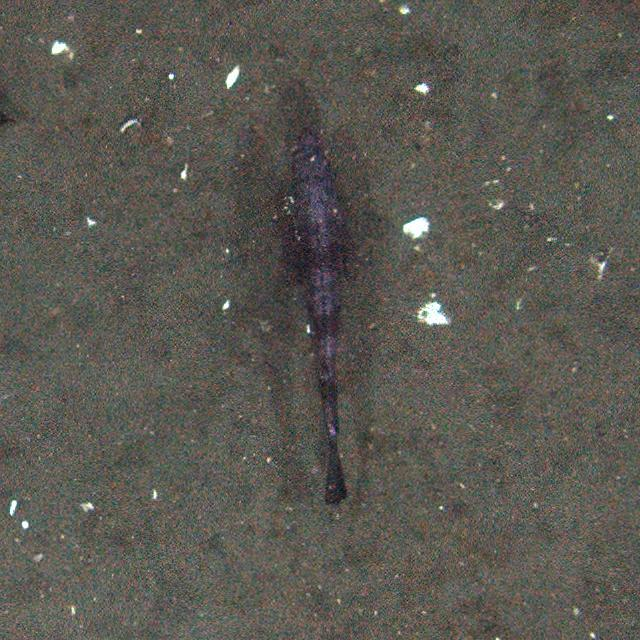roundfish: (278, 126, 367, 508)
